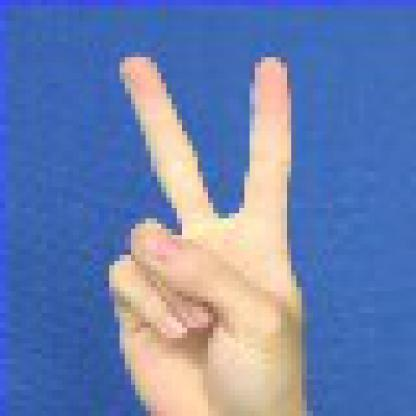two: (99, 41, 317, 410)
